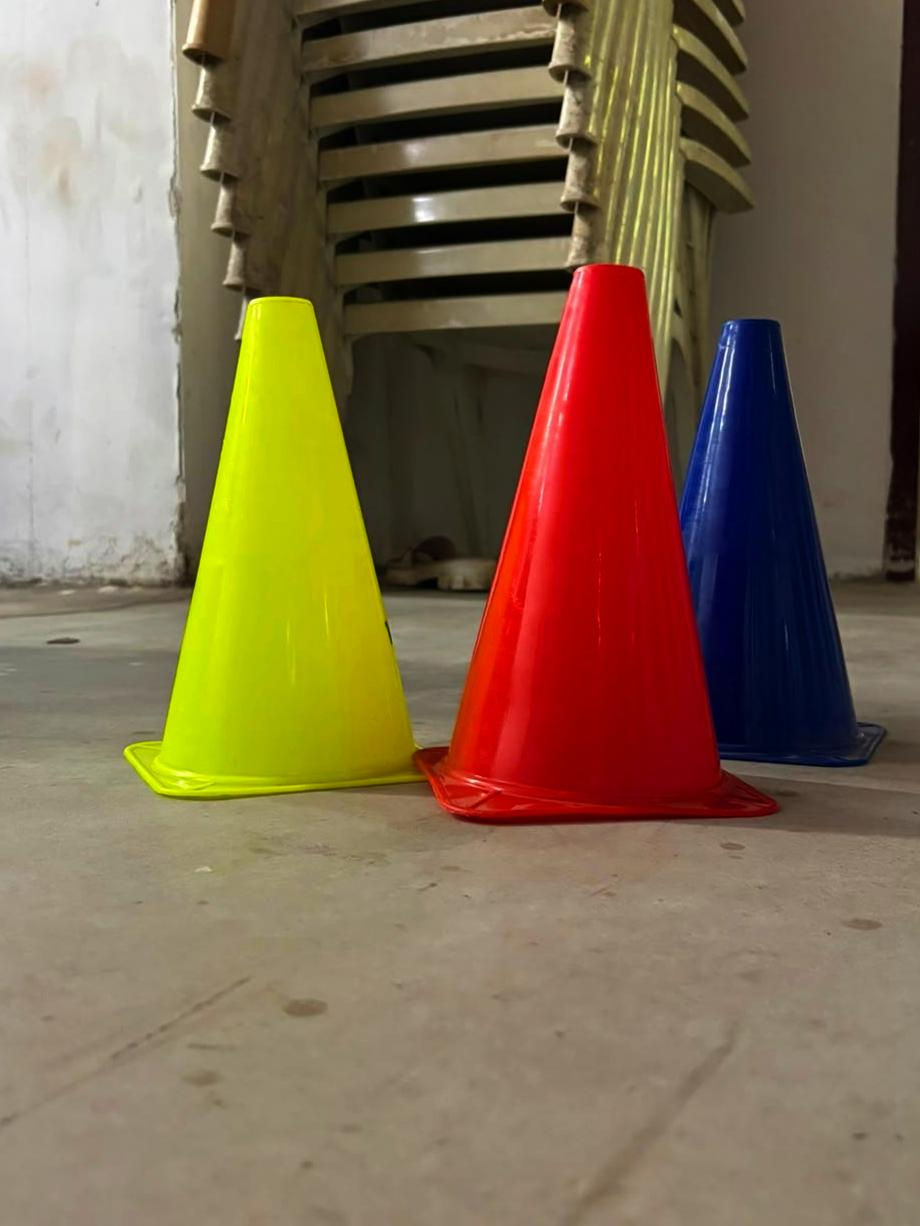0 cone: (125, 265, 885, 819)
